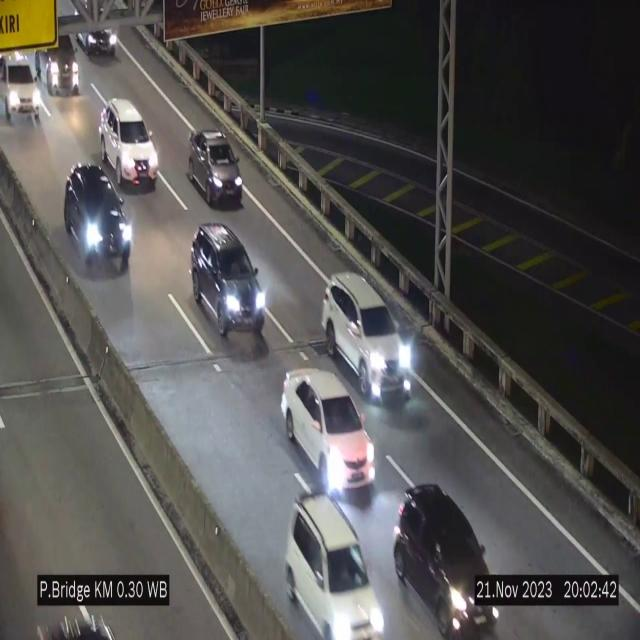Car: (399, 482, 505, 634), (286, 494, 384, 640), (322, 272, 418, 398), (281, 370, 375, 495), (191, 224, 266, 338), (62, 158, 133, 274), (99, 98, 159, 186), (187, 130, 243, 208), (35, 36, 82, 98), (0, 52, 43, 119)
